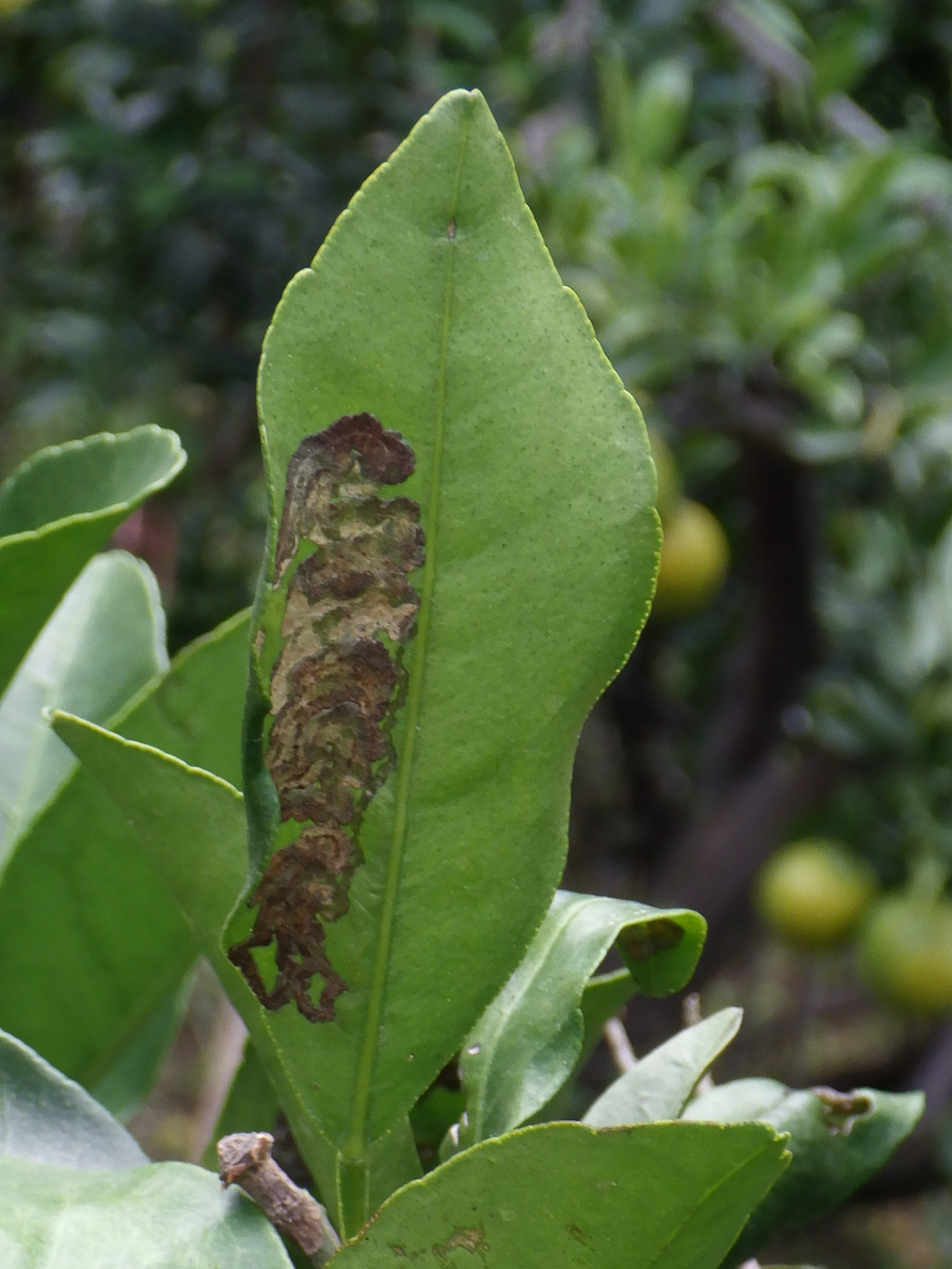Citrus_Leaf_Miner: (229, 412, 425, 1022)
